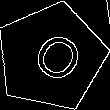O_SW: (19, 24, 83, 90)
